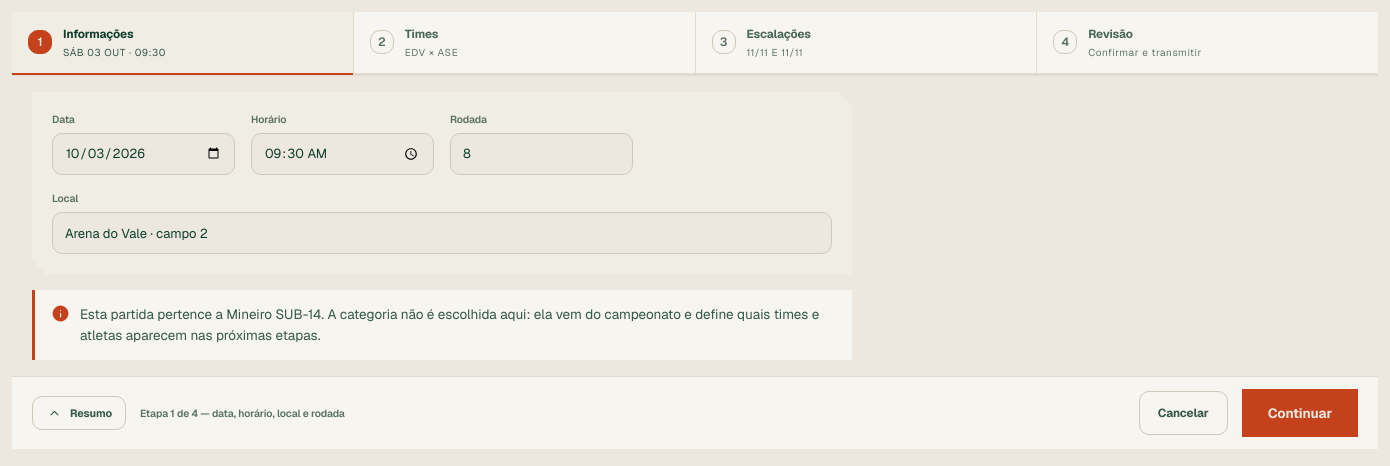
Test: NewMatchWizard › returns one step with the back button
What coordinates should you click on to do the following:
click the button "Continuar"
I would click on:
 (1300, 413)
Its box is x1=1242 y1=389 x2=1358 y2=437.
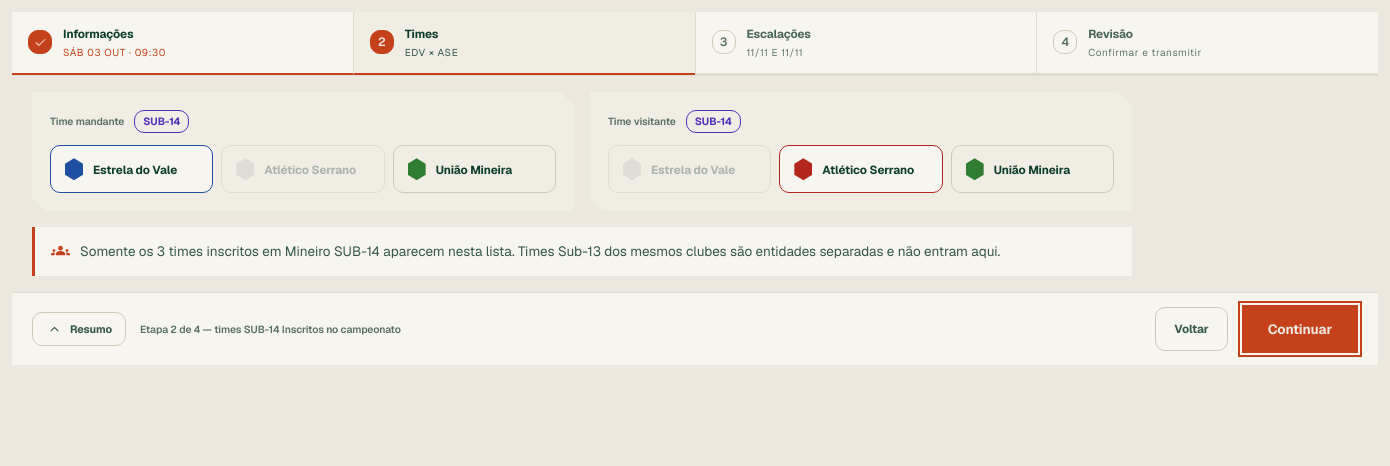
What coordinates should you click on to do the following:
click the button "Voltar"
I would click on:
 (1191, 329)
Its box is x1=1155 y1=307 x2=1228 y2=351.
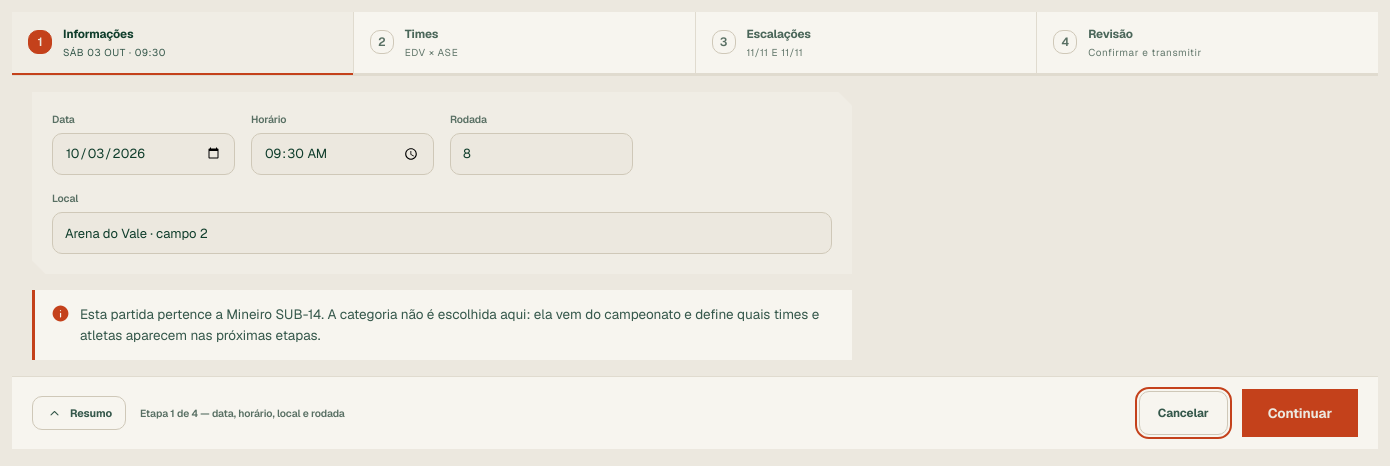
Expected: the field labelled "Local" holds "Arena do Vale · campo 2", x1=52 y1=212 x2=832 y2=254
